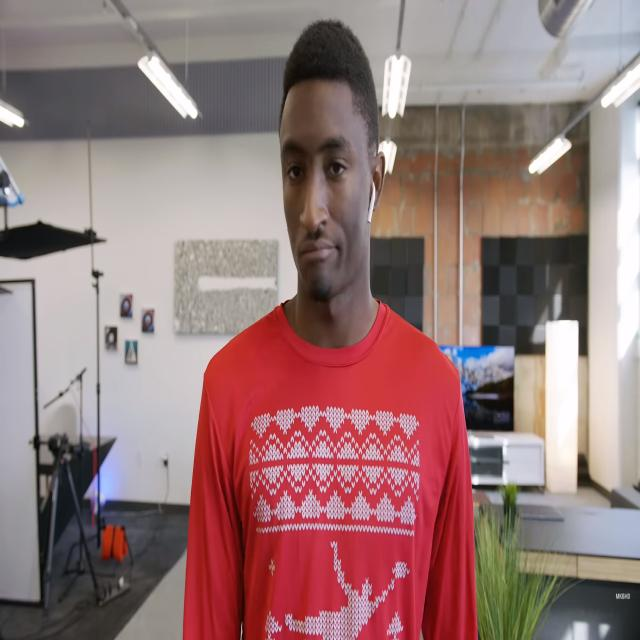airpods: (367, 179, 376, 225)
